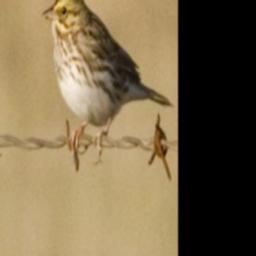Sparrow: (40, 0, 173, 164)
